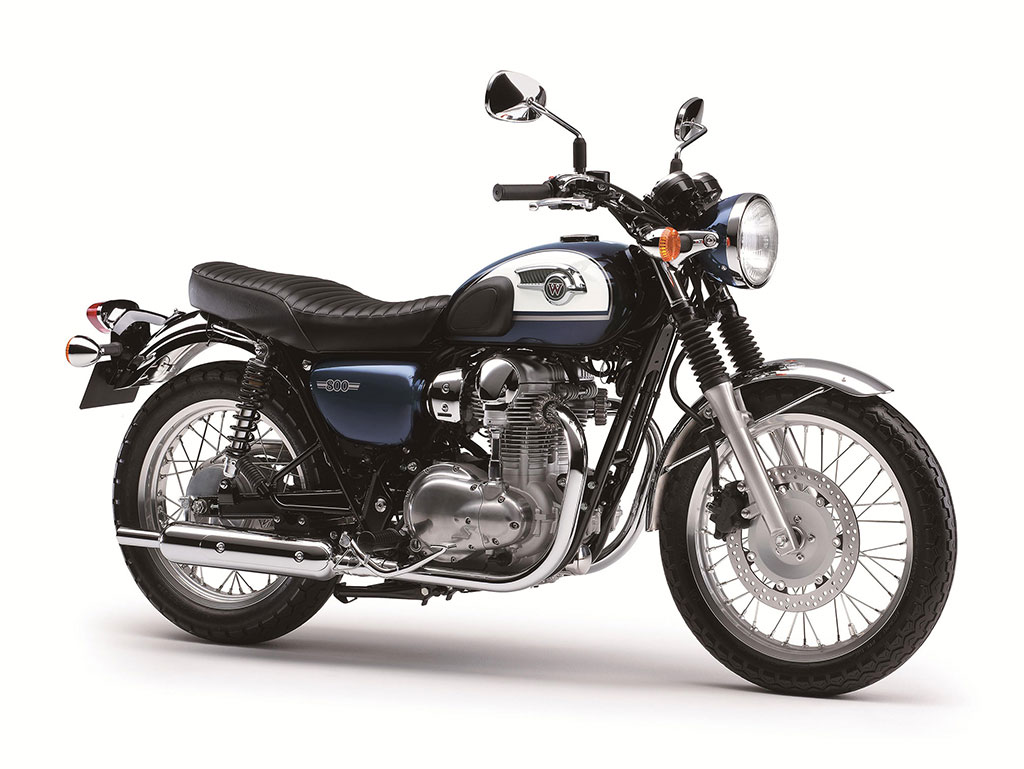motorcycle: (89, 172, 960, 698)
